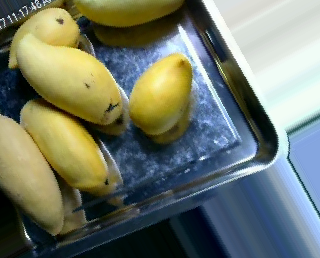Mango: (15, 33, 123, 126), (19, 98, 108, 189), (0, 113, 63, 235), (127, 54, 192, 133), (8, 8, 80, 70), (73, 0, 185, 27)
